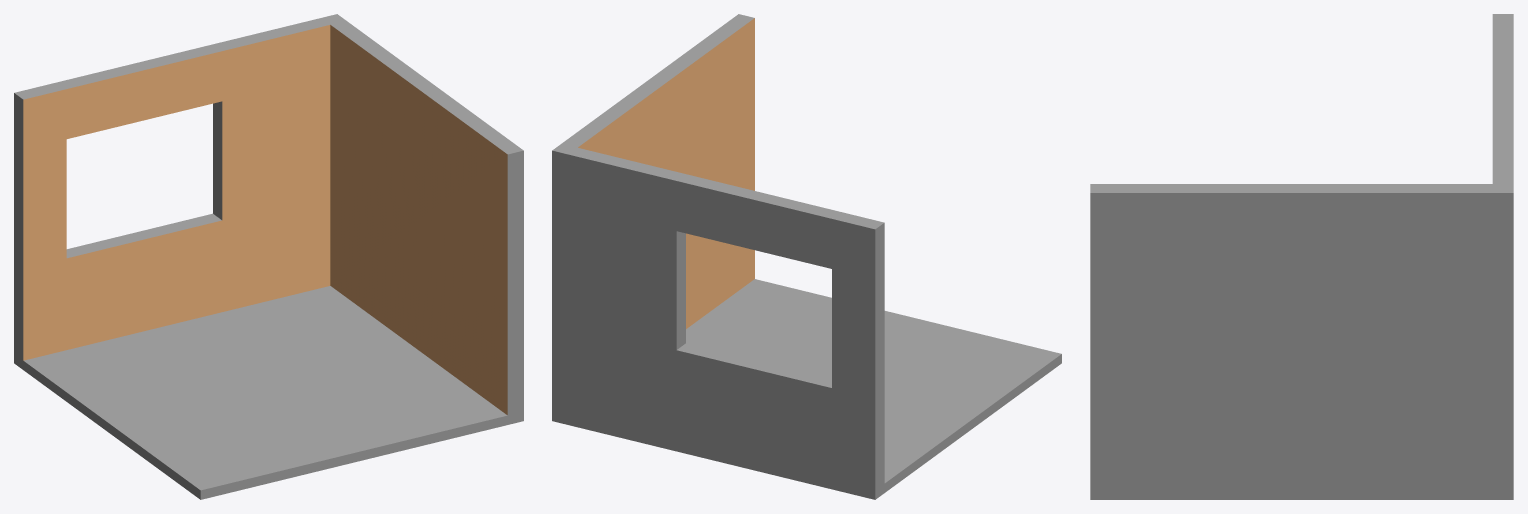
Rendered from Wall_8.fbx.
The picture shows the model from 3 angles, left to right: view 1: azimuth 30°, elevation 25°; view 2: azimuth 150°, elevation 25°; view 3: azimuth 270°, elevation 25°; orthographic projection. The views are drawn at different scales.
Visible parts, largest first — view 1: Wall_8; view 2: Wall_8; view 3: Wall_8.
Boxes of the visible parts, <box> form: Wall_8: <box>14,14,523,499</box>; Wall_8: <box>552,14,1061,499</box>; Wall_8: <box>1090,14,1513,499</box>.
Size of the model in its own units: 3.8 by 3.04 by 3.8.
